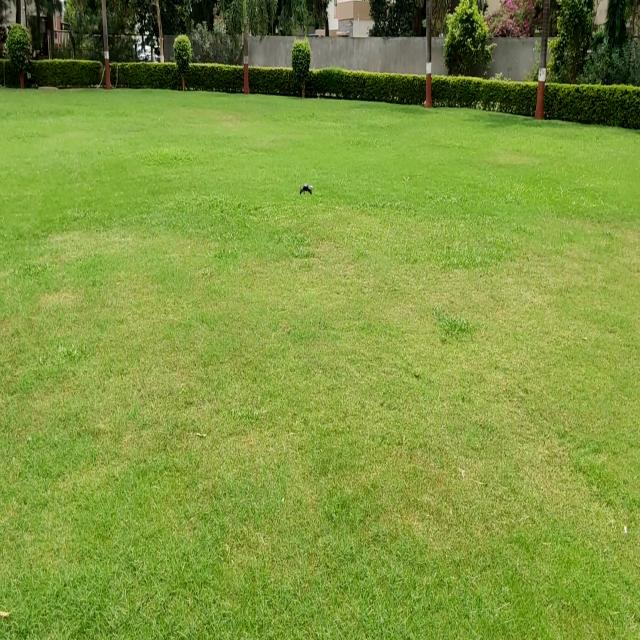drone: (294, 175, 320, 202)
